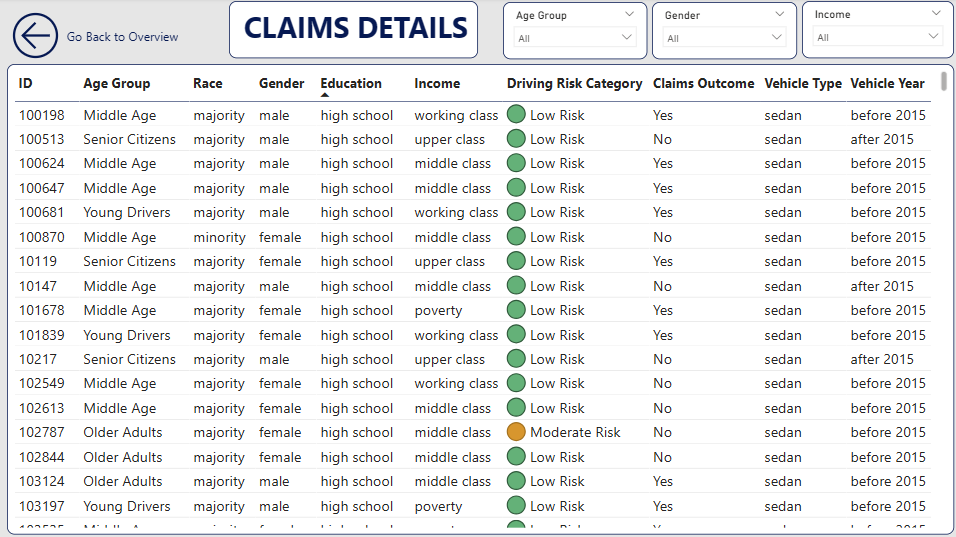

What the dashboard file says about the page in this screenshot:
{"tool":"powerbi","page":{"name":"Claims Details","canvas":[1280,720],"ordinal":1},"visuals":[{"type":"textbox","box":[313.2,4.4,326.3,74.6],"z":0},{"type":"slicer","fields":{"Values":["Car_Insurance_Claim.Age Group"]},"box":[671.7,5.9,188.8,74.6],"z":1000},{"type":"slicer","fields":{"Values":["Car_Insurance_Claim.Gender"]},"box":[866.3,5.9,190.2,74.6],"z":2000},{"type":"slicer","fields":{"Values":["Car_Insurance_Claim.Income"]},"box":[1062.4,4.4,199,74.6],"z":3000},{"type":"tableEx","fields":{"Values":["Car_Insurance_Claim.ID","Car_Insurance_Claim.Age Group","Car_Insurance_Claim.Race","Car_Insurance_Claim.Gender","Car_Insurance_Claim.Education","Car_Insurance_Claim.Income","Car_Insurance_Claim.Driving Risk Category","Car_Insurance_Claim.Claims Outcome","Car_Insurance_Claim.Vehicle Type","Car_Insurance_Claim.Vehicle Year"]},"box":[22,86.3,1239.5,616.1],"z":4000},{"type":"actionButton","box":[22,11.7,228.3,74.6],"z":5000}]}

Visuals, with their boxes in screenshot pixels (x1, y1, x2, y2), scaled from the page's 1280x720 canvas onto the 956x537 screenshot:
textbox: Rect(234, 3, 478, 59)
slicer - Car_Insurance_Claim.Age Group: Rect(502, 4, 643, 60)
slicer - Car_Insurance_Claim.Gender: Rect(647, 4, 789, 60)
slicer - Car_Insurance_Claim.Income: Rect(793, 3, 942, 59)
tableEx - Car_Insurance_Claim.ID x Car_Insurance_Claim.Age Group: Rect(16, 64, 942, 524)
actionButton: Rect(16, 9, 187, 64)
